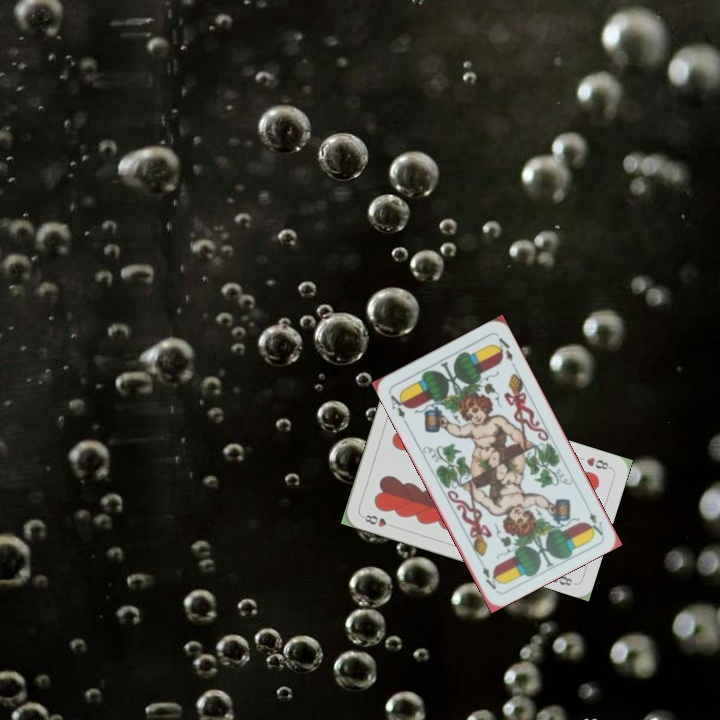EA: (385, 389, 410, 427), (584, 509, 606, 538)
H8: (358, 510, 398, 530), (582, 453, 614, 472)
